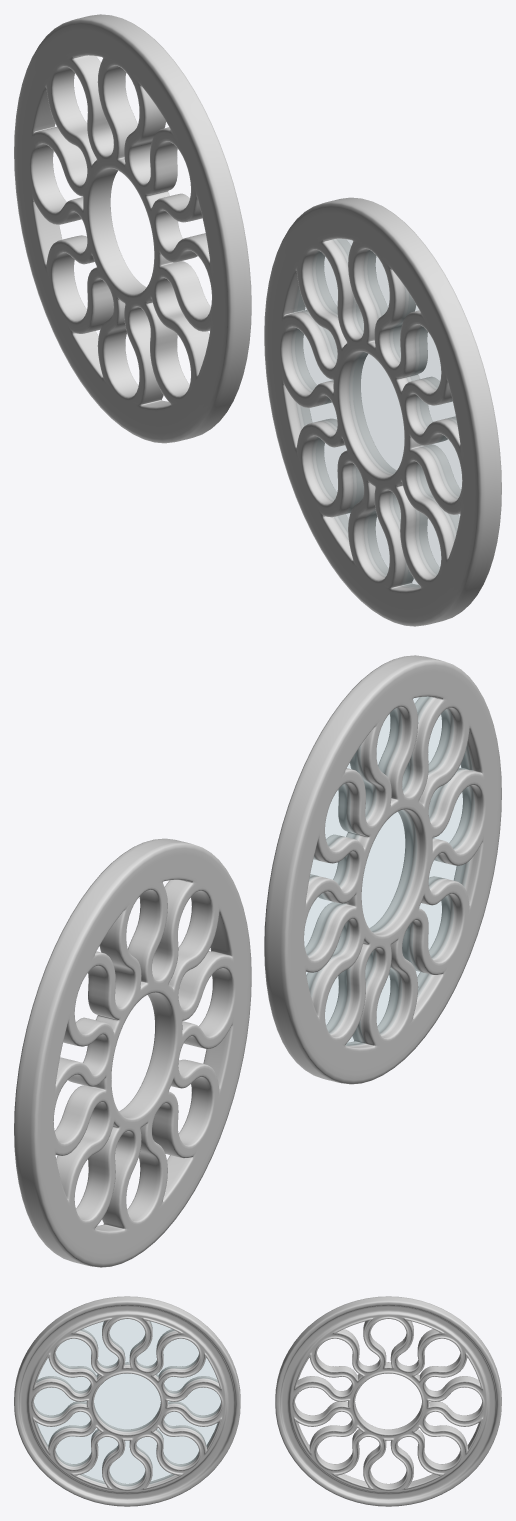
3 views of the same model, one above another, from view 1: azimuth 30°, elevation 25°; view 2: azimuth 150°, elevation 25°; view 3: azimuth 270°, elevation 25° (orthographic). The views are drawn at different scales.
Visible parts, largest first — view 1: Circular_Window_06, Circular_Window_06_NoGlass; view 2: Circular_Window_06, Circular_Window_06_NoGlass; view 3: Circular_Window_06, Circular_Window_06_NoGlass.
Boxes of the visible parts, left/top/right/bottom form: Circular_Window_06: left=264, top=197, right=501, bottom=626; Circular_Window_06_NoGlass: left=14, top=14, right=251, bottom=443; Circular_Window_06: left=264, top=655, right=501, bottom=1084; Circular_Window_06_NoGlass: left=14, top=838, right=251, bottom=1267; Circular_Window_06: left=14, top=1296, right=240, bottom=1506; Circular_Window_06_NoGlass: left=275, top=1296, right=501, bottom=1506.
Bounding box in the file's own units: 0.03 × 0.4968 × 1.07.
